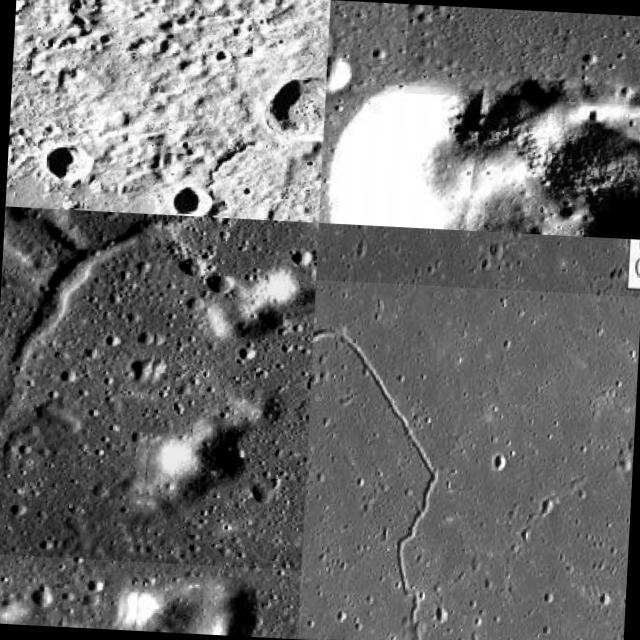crater: (299, 279, 640, 640), (0, 206, 319, 570), (404, 4, 640, 106)
